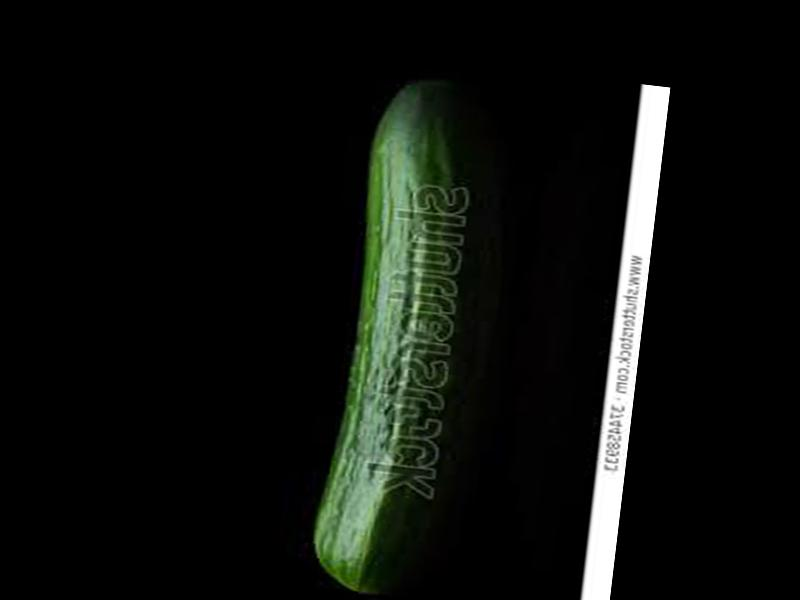Cucumber: (310, 73, 487, 600)
